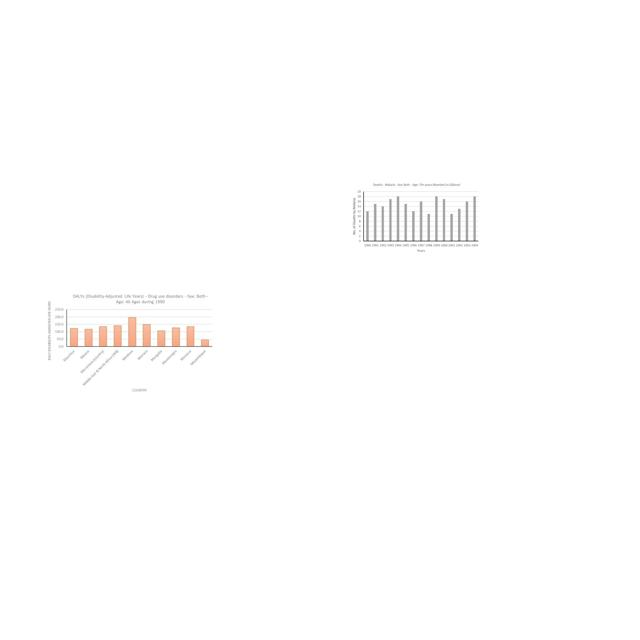Graph: (45, 292, 215, 394), (349, 181, 481, 253)
